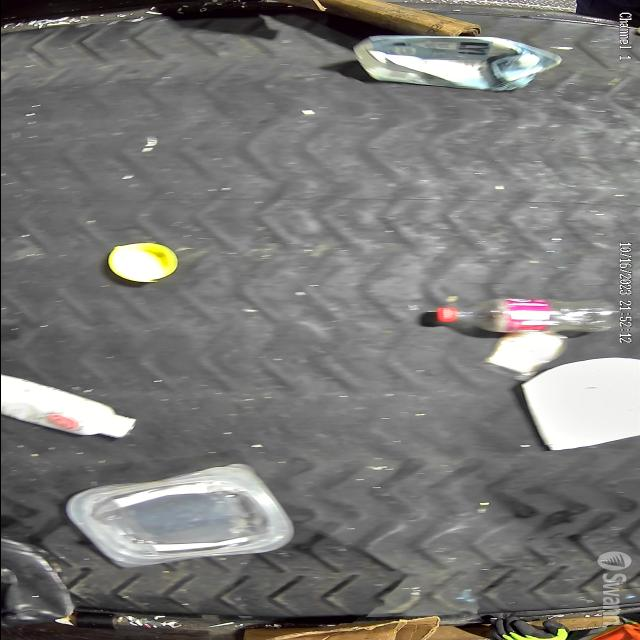non_white_jug: (0, 534, 76, 628)
plastic_bottle: (432, 296, 620, 334)
